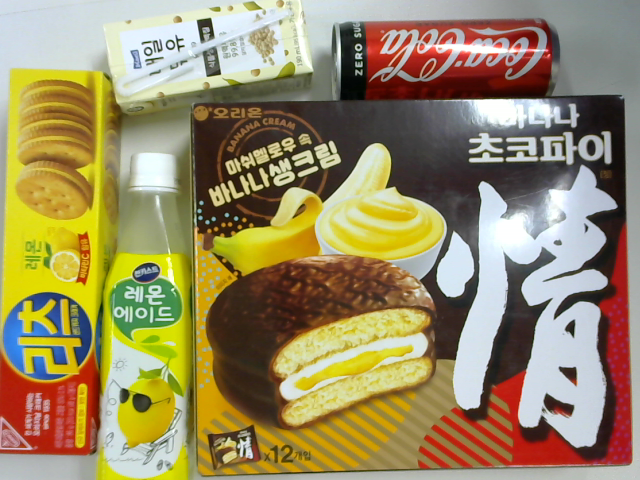99.89_Soymilk: (95, 1, 320, 119)
Choco_Pie_Banana: (179, 88, 639, 480)
Coca_Cola_Zero_Can_250ml: (327, 11, 567, 108)
Ritz_Remon_96g: (1, 62, 125, 457)
Sunkist_Lemonaid_Pet: (92, 144, 204, 480)
